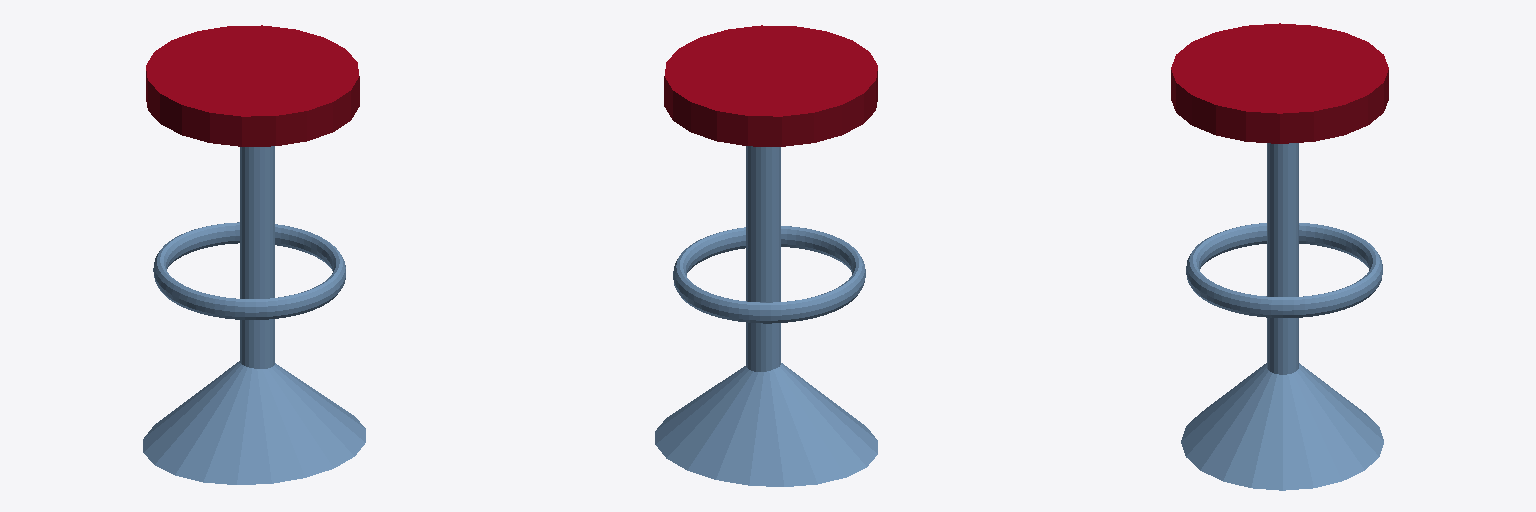
The picture shows the model from 3 angles: view 1: azimuth 30°, elevation 25°; view 2: azimuth 150°, elevation 25°; view 3: azimuth 270°, elevation 25°; orthographic projection.
Parts seen in each view (by area): view 1: banco:polySurface13; view 2: banco:polySurface13; view 3: banco:polySurface13.
Boxes of the visible parts, box(x1,y1,x2,y2) form: banco:polySurface13: box(143, 25, 365, 484); banco:polySurface13: box(655, 25, 877, 486); banco:polySurface13: box(1171, 23, 1388, 490).
Size of the model in its own units: 0.85 by 1.5 by 0.8002.
5 materials, 3 textured.